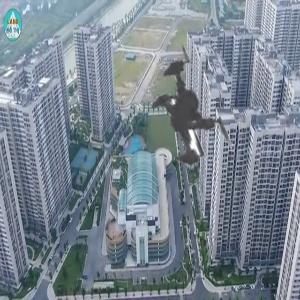drone: (75, 15, 282, 222)
